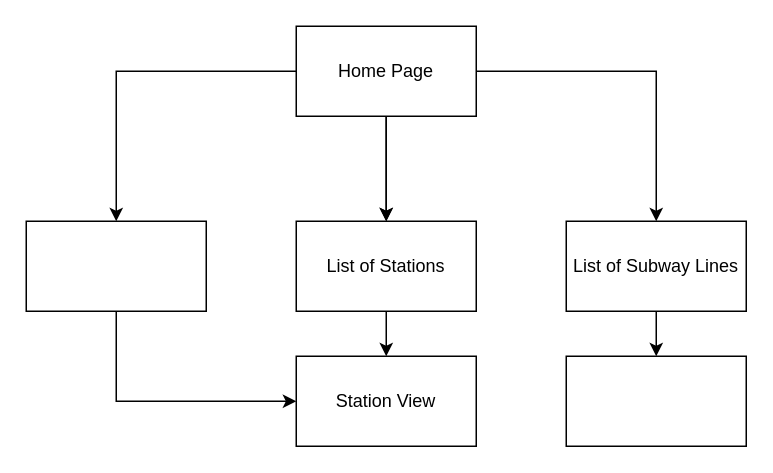
This 773x473 diagram has some shape labels left out. Here are the shapes that lost their labels. From the top down, the box of each, then its label:
(25, 220, 206, 311): Map View
(565, 355, 746, 446): Subway Time Information
